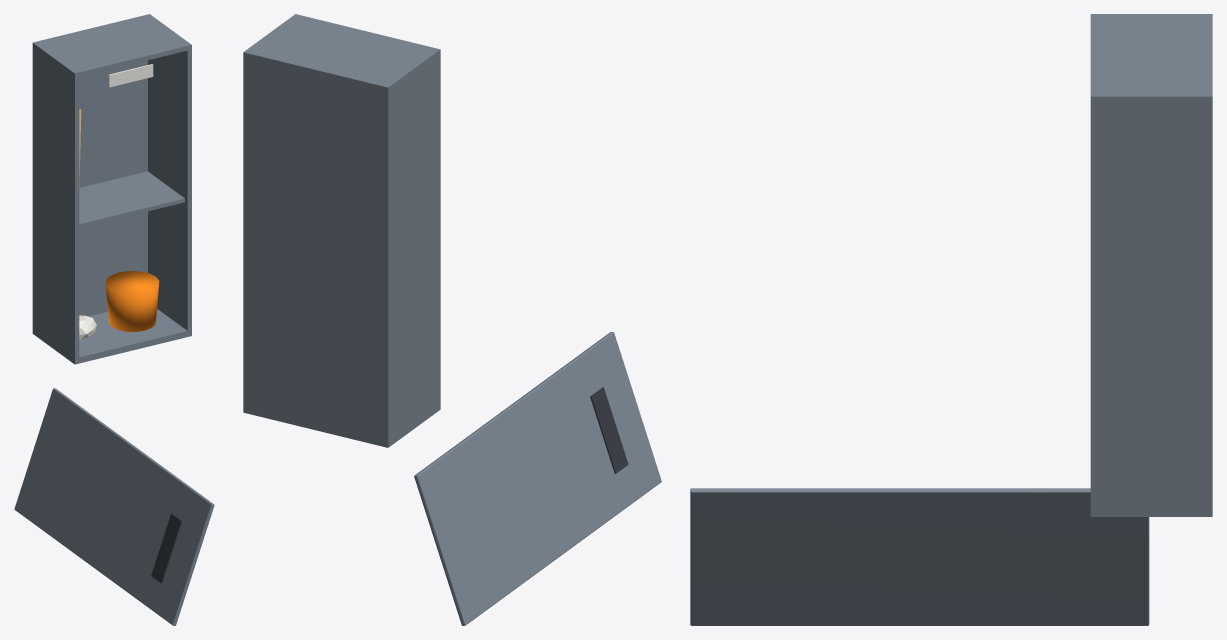
Rendered from CleaningCloset.fbx.
3 views of the same model, side by side, from view 1: azimuth 30°, elevation 25°; view 2: azimuth 150°, elevation 25°; view 3: azimuth 270°, elevation 25° (orthographic). The views are drawn at different scales.
Visible parts, largest first — view 1: DoorPanel, Back.005, Side.004, Side.005, Roof, Shelf.005, Floor, Bucket, Vent, Label, MopHead; view 2: Back.005, DoorPanel, Side.004, Roof, Vent; view 3: DoorPanel, Side.005, Roof, Back.005, Floor.
Boxes of the visible parts, left/top/right/bottom form: DoorPanel: left=14, top=388, right=214, bottom=625; Back.005: left=32, top=15, right=148, bottom=334; Side.004: left=32, top=48, right=79, bottom=363; Side.005: left=148, top=16, right=191, bottom=335; Roof: left=33, top=14, right=191, bottom=77; Shelf.005: left=79, top=171, right=184, bottom=227; Floor: left=33, top=309, right=191, bottom=364; Bucket: left=105, top=271, right=159, bottom=331; Vent: left=151, top=513, right=182, bottom=583; Label: left=108, top=64, right=153, bottom=87; MopHead: left=79, top=315, right=96, bottom=339; Back.005: left=243, top=51, right=391, bottom=447; DoorPanel: left=414, top=332, right=661, bottom=625; Side.004: left=382, top=49, right=440, bottom=447; Roof: left=243, top=14, right=440, bottom=91; Vent: left=590, top=387, right=628, bottom=473; DoorPanel: left=690, top=488, right=1149, bottom=625; Side.005: left=1090, top=93, right=1212, bottom=507; Roof: left=1090, top=14, right=1212, bottom=103; Back.005: left=1205, top=14, right=1212, bottom=516; Floor: left=1090, top=508, right=1212, bottom=516.
Bounding box in the file's own units: 1.08 × 2.89 × 2.14.
